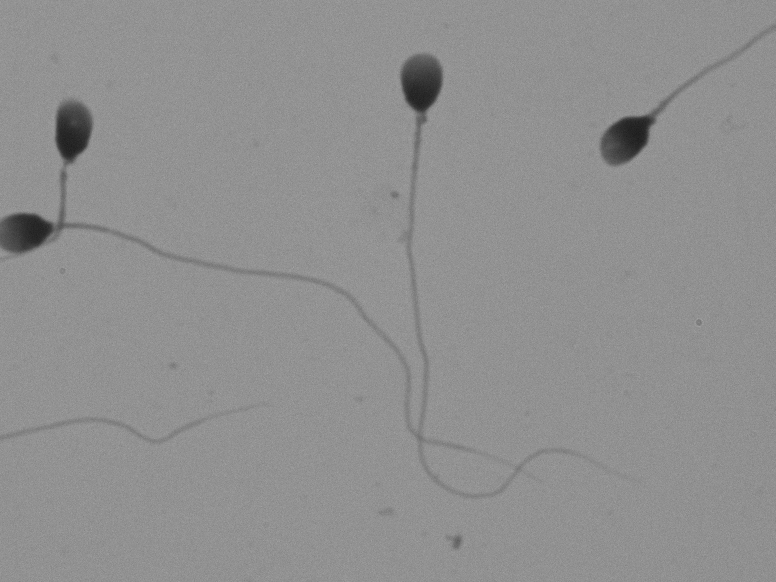Abnormal: (585, 42, 743, 216), (13, 73, 152, 213)
Normal: (360, 28, 565, 523)
